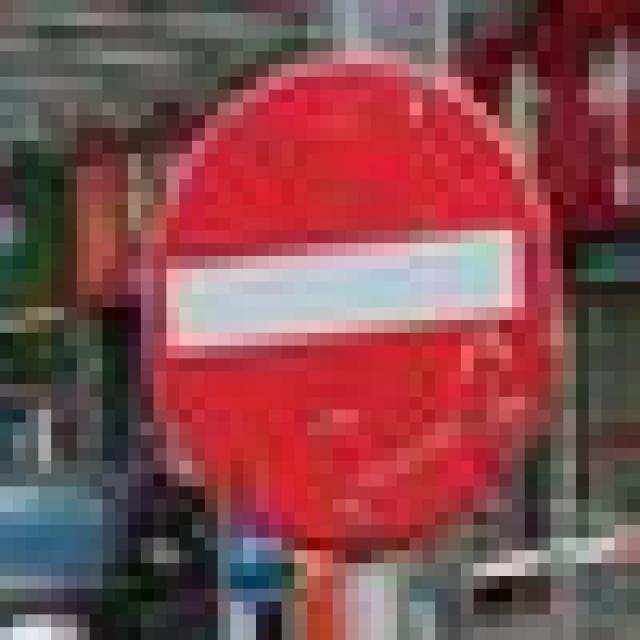NO_ENTRY: (128, 38, 550, 550)
